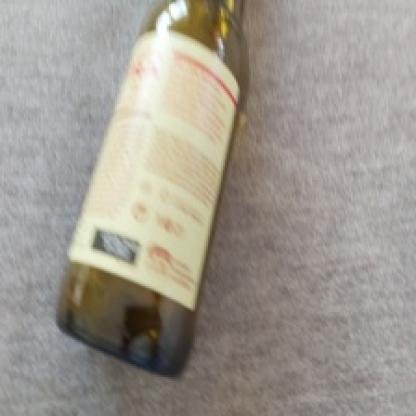Can: (51, 0, 264, 386)
